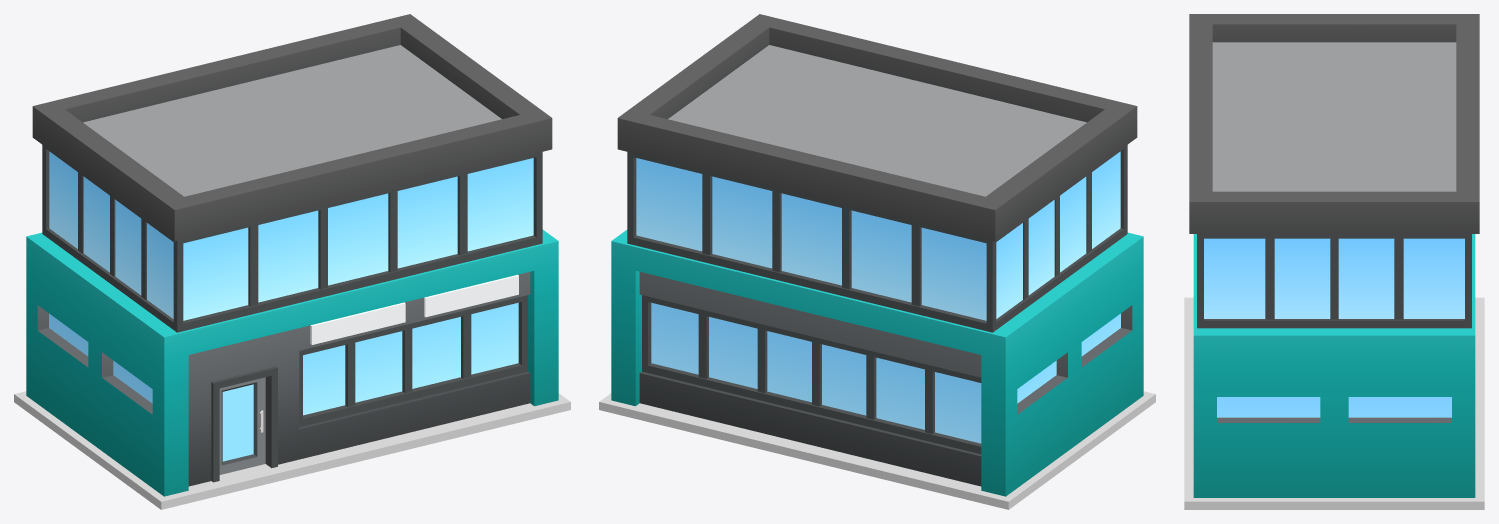
Rendered from city2-building-supermarket-04.glb.
The picture shows the model from 3 angles, left to right: view 1: azimuth 30°, elevation 25°; view 2: azimuth 150°, elevation 25°; view 3: azimuth 270°, elevation 25°; orthographic projection. The views are drawn at different scales.
Visible parts, largest first — view 1: Building_Supermarket_04; view 2: Building_Supermarket_04; view 3: Building_Supermarket_04.
Part boxes in pixels (bbox=[...]): Building_Supermarket_04: bbox=[14, 14, 570, 509]; Building_Supermarket_04: bbox=[599, 14, 1155, 509]; Building_Supermarket_04: bbox=[1184, 14, 1484, 509].
Size of the model in its own units: 10.53 by 7.22 by 6.55.
Materials: 1 (1 with a texture image).
